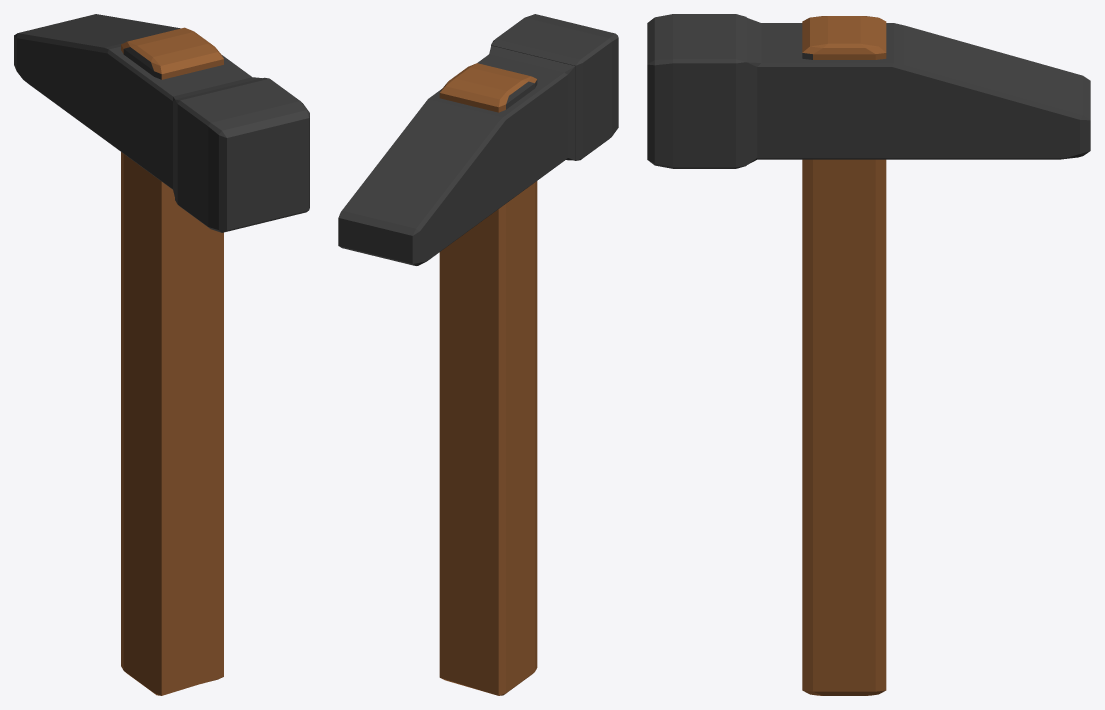
The model's file is hummer.fbx.
3 renders of one model, left to right at view 1: azimuth 30°, elevation 25°; view 2: azimuth 150°, elevation 25°; view 3: azimuth 270°, elevation 25°, orthographic. The views are drawn at different scales.
Visible parts, largest first — view 1: Cube; view 2: Cube; view 3: Cube.
Part boxes in pixels (x1,y1,x2,y2): Cube: (14, 14, 309, 695); Cube: (338, 14, 618, 695); Cube: (647, 14, 1090, 695).
Bounding box in the file's own units: 49 × 312 × 192.
